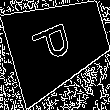P_E: (34, 18, 82, 69)
